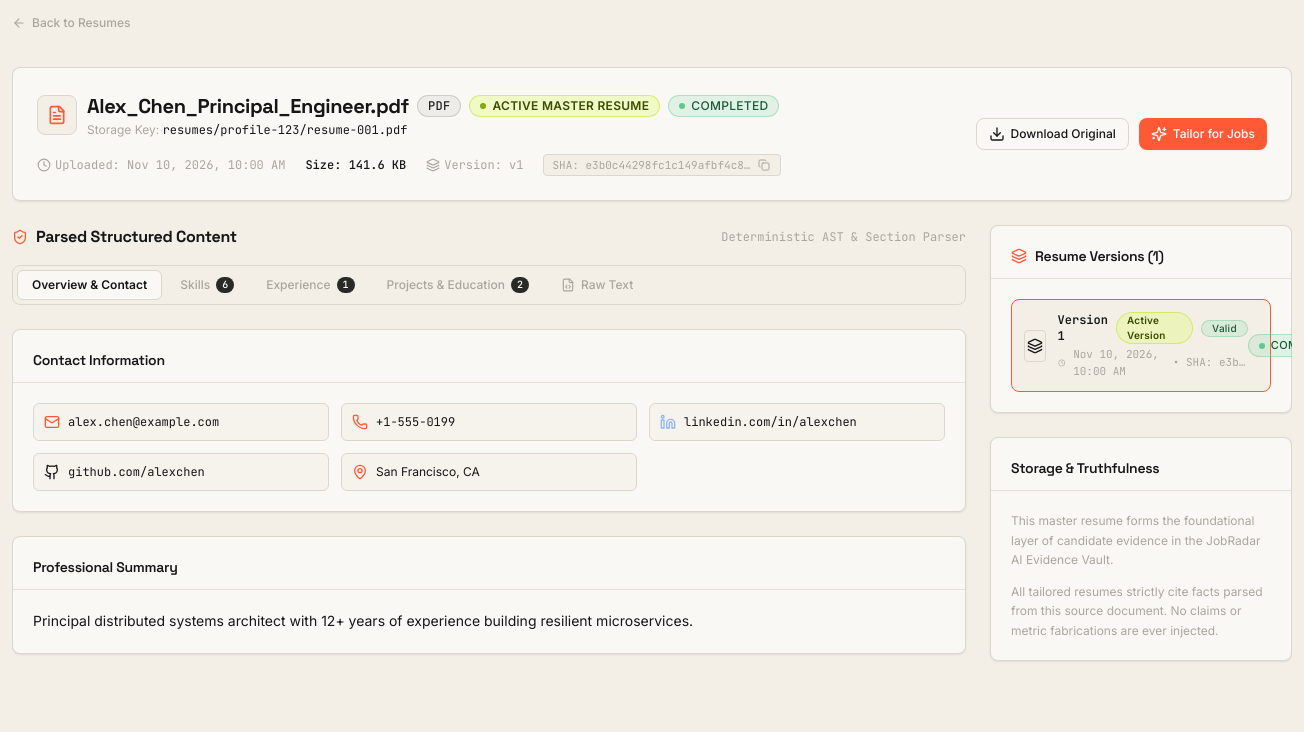
ResumeDetailPage Integration › switches tabs to inspect parsed technical skills
Click the button "Skills 6" at (207, 285), box [166,271,248,299]
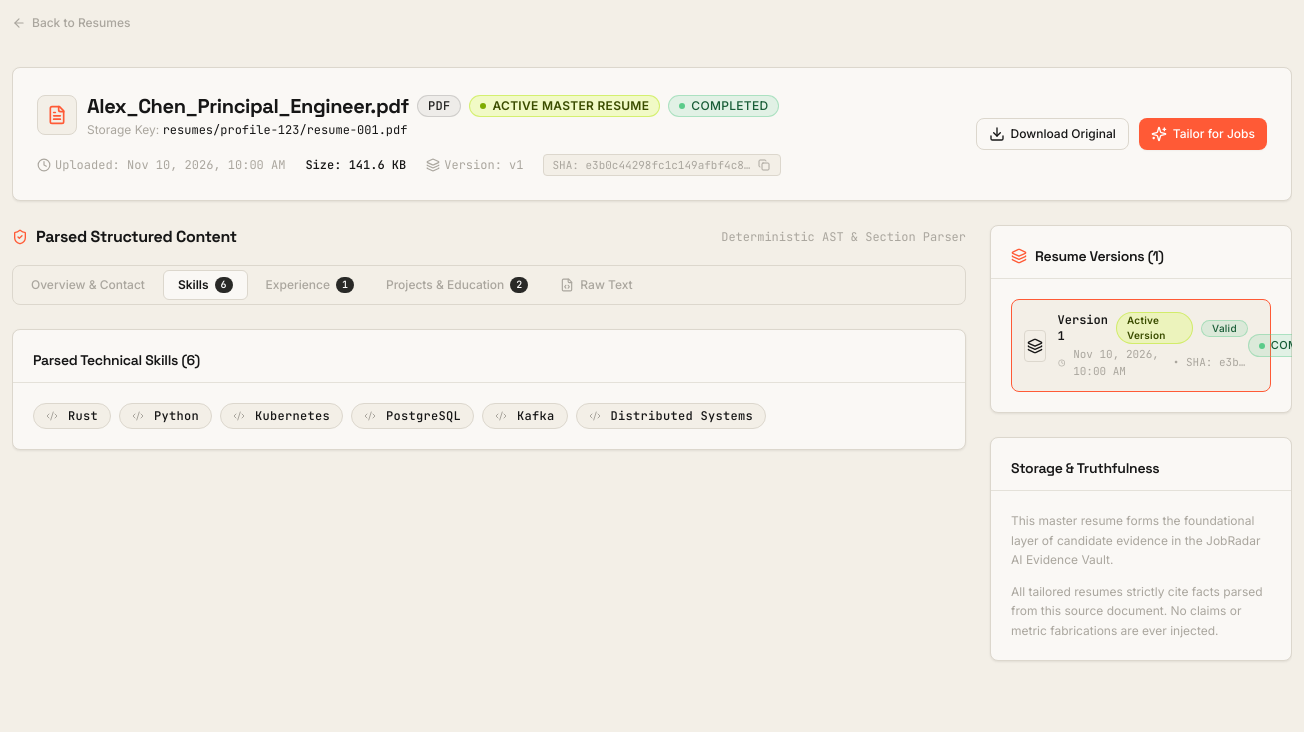
Expected: the heading "Parsed Technical Skills (6)" is shown, [33,351,200,369]
Expected: the text "Rust" is shown, [33,403,111,429]
Expected: the text "Kubernetes" is shown, [220,403,343,429]
